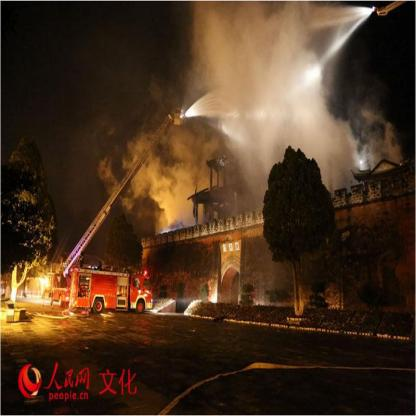other: (32, 269, 53, 305)
smoke: (151, 162, 185, 216)
